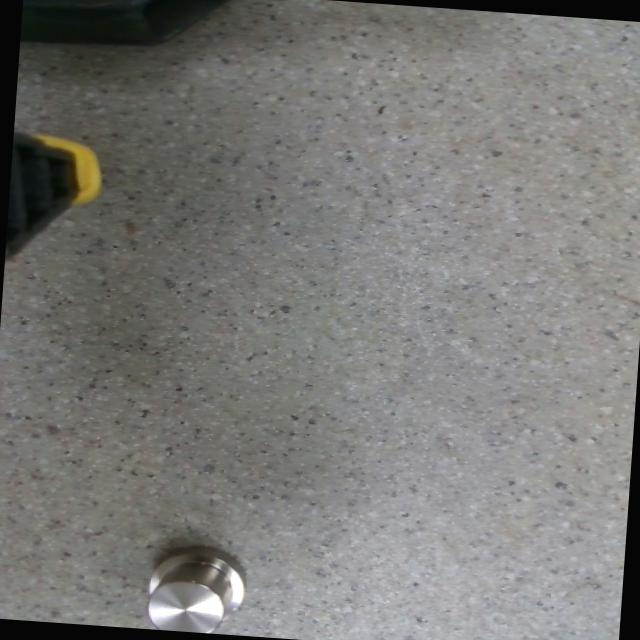sensor: (146, 542, 247, 634)
